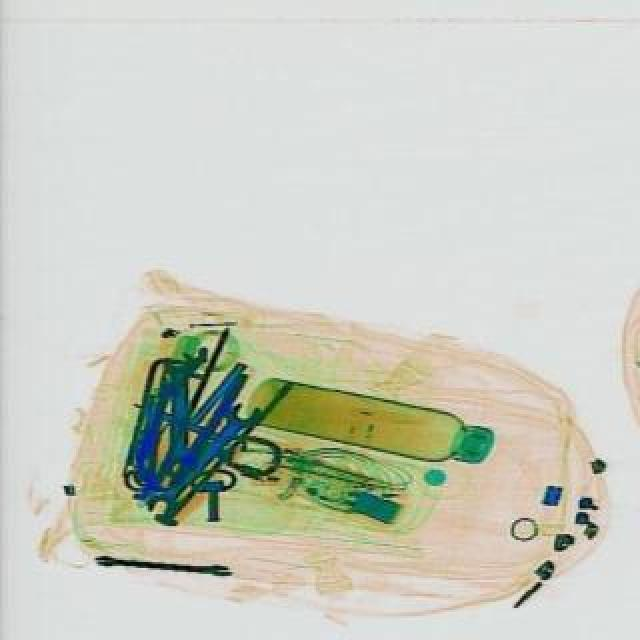scissors: (138, 392, 268, 524), (158, 350, 198, 474)
